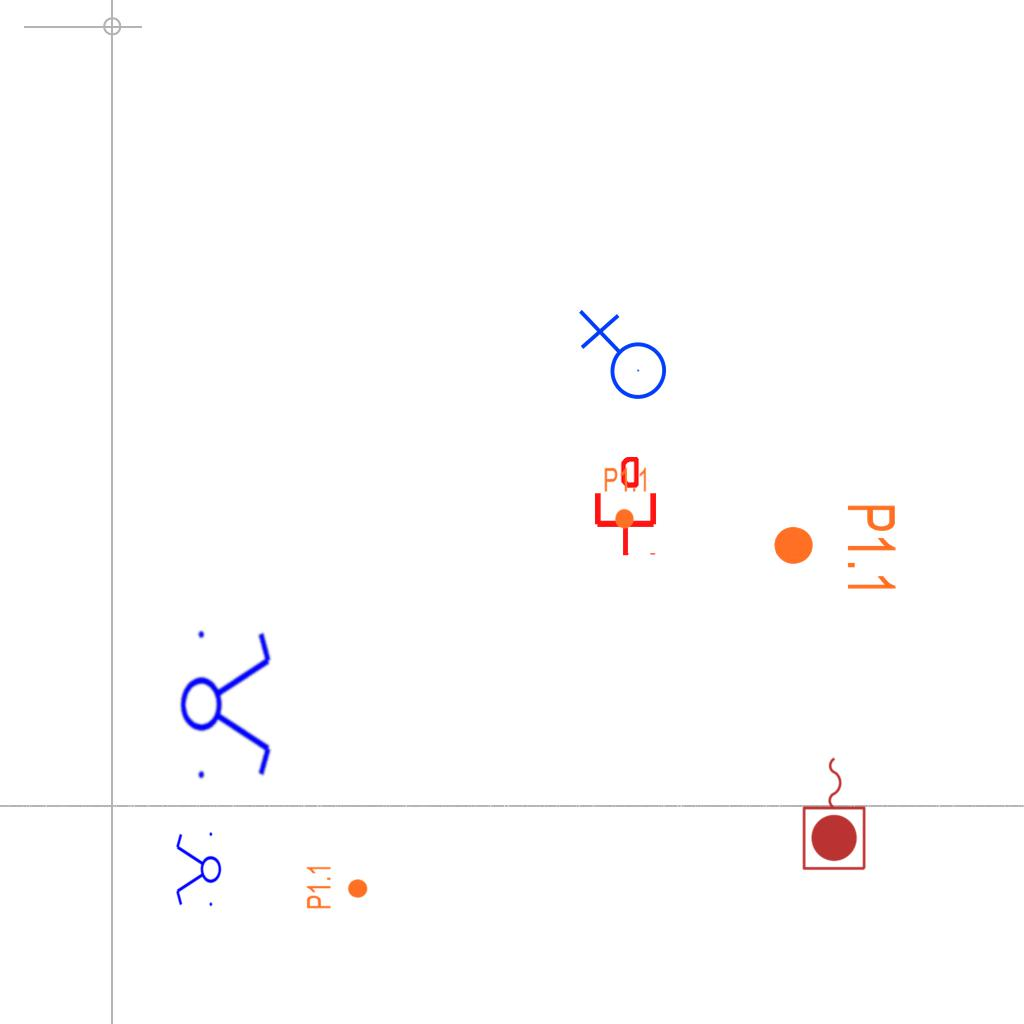Datenanschluss_einfach: (591, 457, 660, 557)
Downlight_LED_Einbauleuchten_Flur: (771, 502, 899, 595), (305, 864, 369, 910), (603, 466, 649, 530)
Elektroanschluss_allgemein_230V_Geraeteanschlussdose_230V: (574, 309, 668, 408)
Serienschalter: (179, 619, 275, 787), (174, 828, 222, 912)
Zugtaster: (799, 752, 871, 874)
